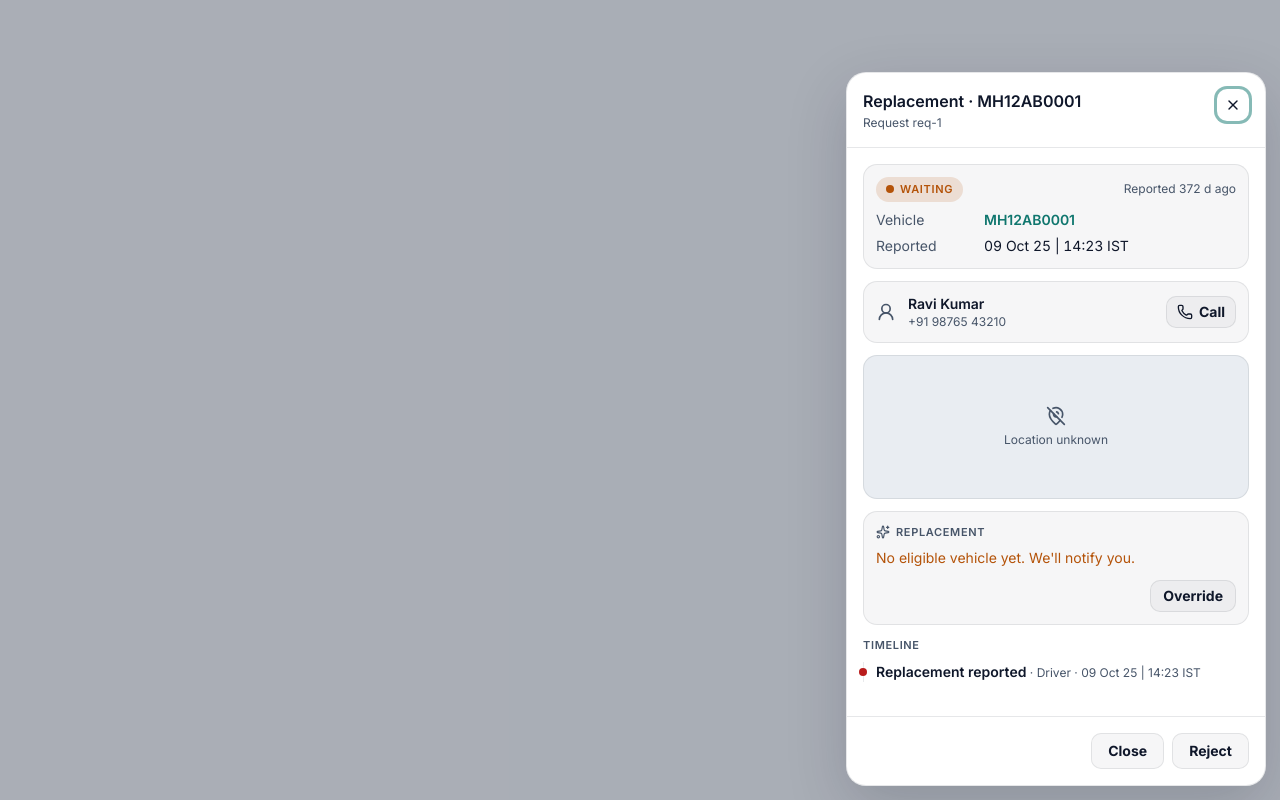
Test: F14-T2: replacement panel states › waiting: says we will notify; override picks a searched vehicle; server reason shows
The width and height of the screenshot is (1280, 800).
Check: the dialog is shown, box left=846, top=72, right=1266, bottom=786
Check: the message with test id "replacement-waiting" reads "No eligible vehicle yet. We'll notify you.", box left=876, top=549, right=1135, bottom=566
Click the button "Override". click: click(1193, 596)
box: left=1150, top=580, right=1236, bottom=612
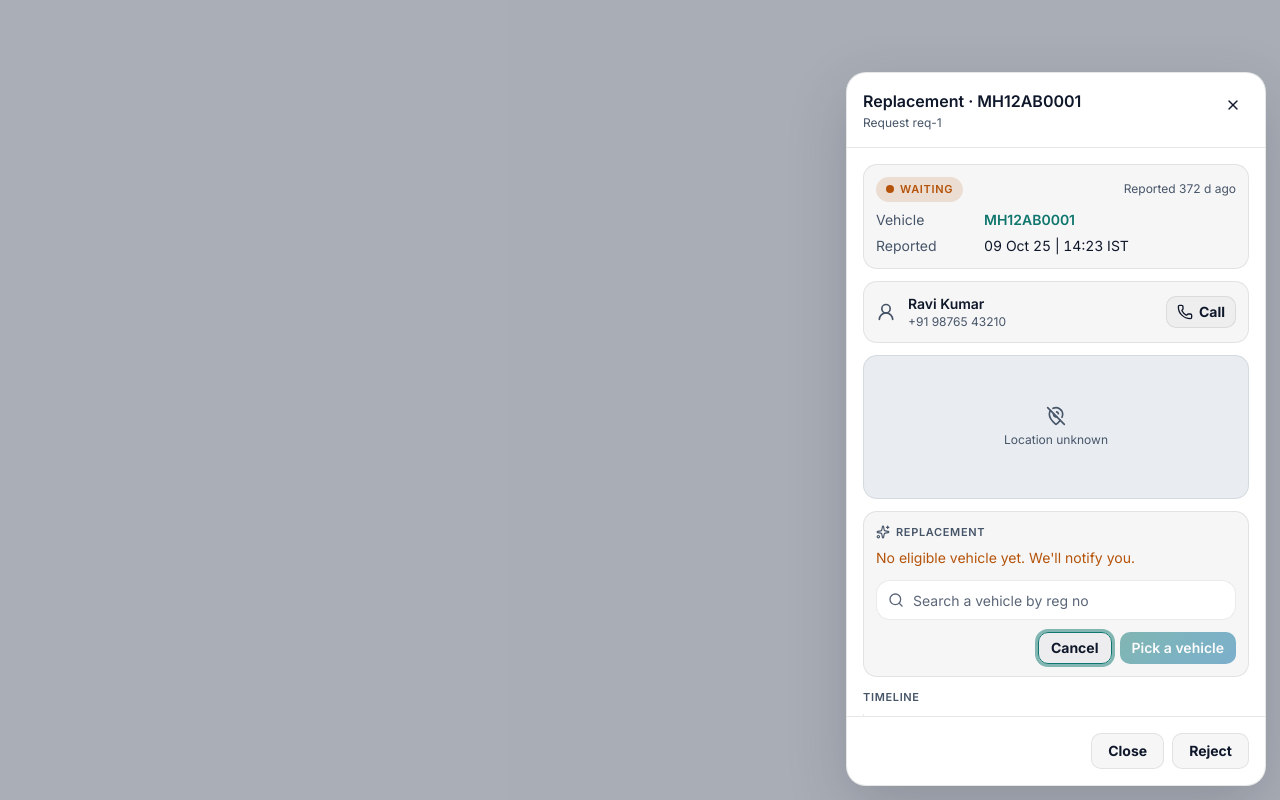
Type "MH12ZZ" into the search field named "Search a replacement vehicle". click: (1056, 600)
box: left=876, top=580, right=1236, bottom=620
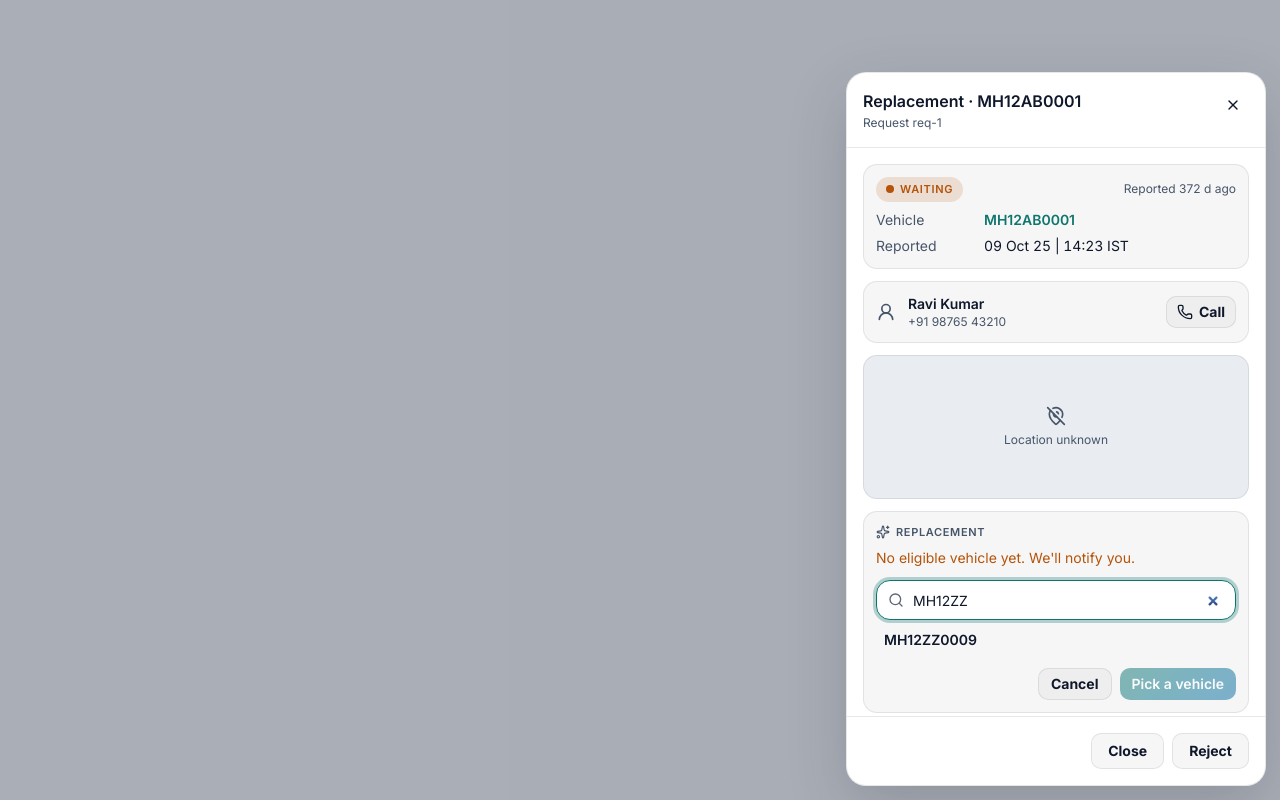
Click the button "MH12ZZ0009". click: click(930, 640)
box: left=876, top=624, right=1236, bottom=656
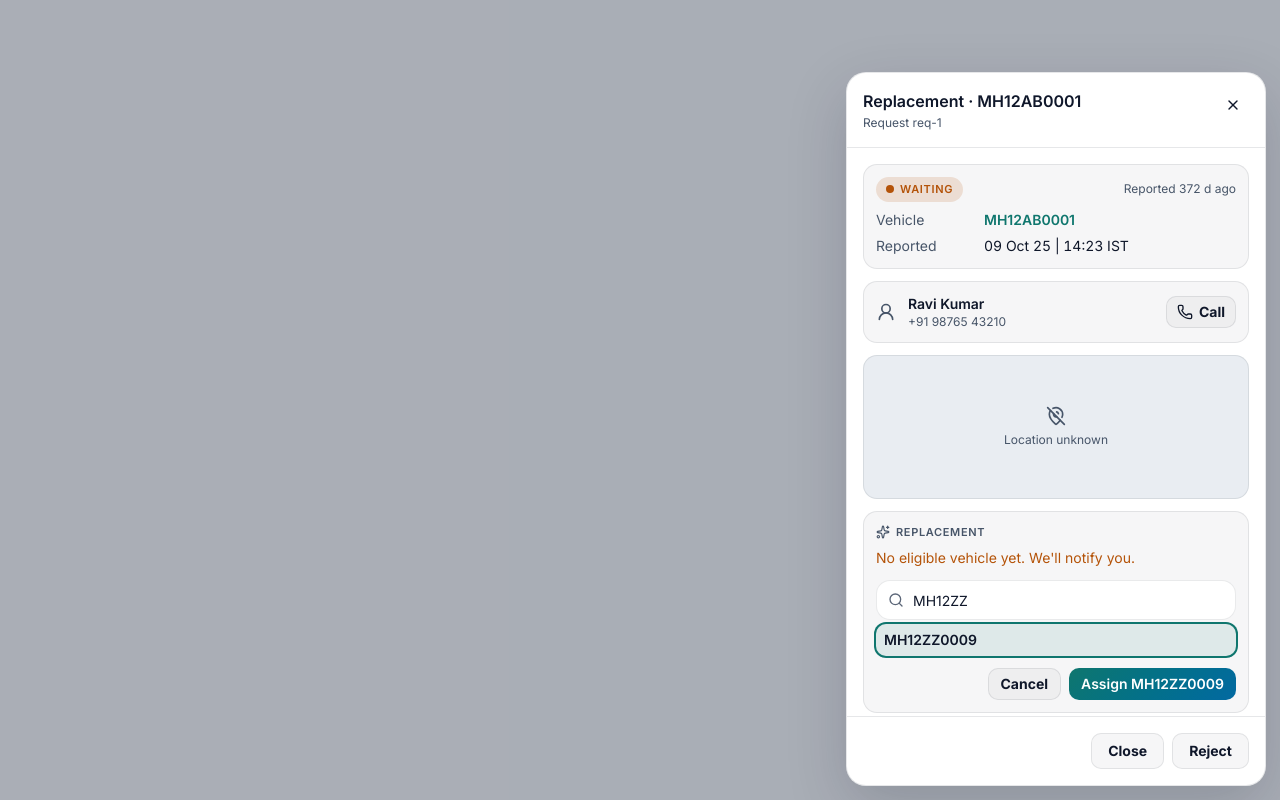
Click the button "Assign MH12ZZ0009". click: click(1153, 684)
box: left=1069, top=668, right=1236, bottom=700
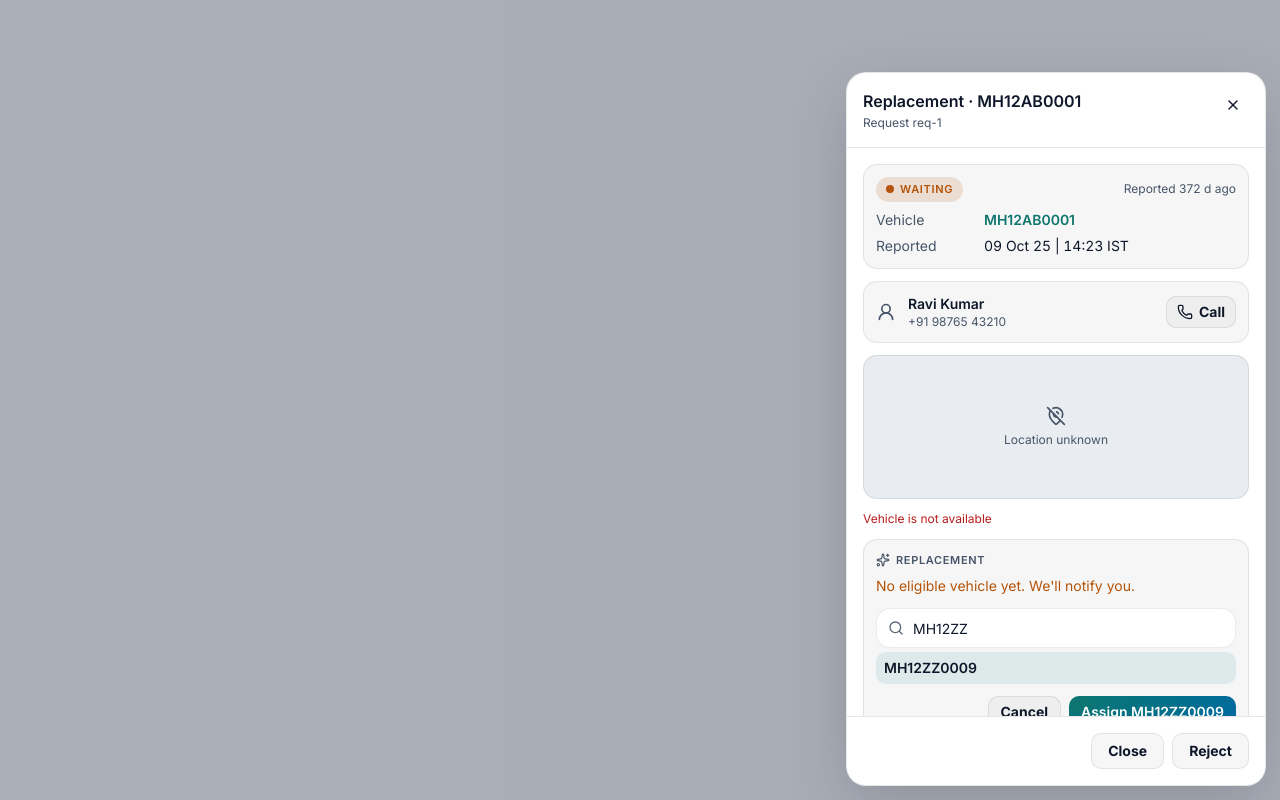
Check: the message with test id "replacement-error" reads "Vehicle is not available", box left=863, top=510, right=992, bottom=526
